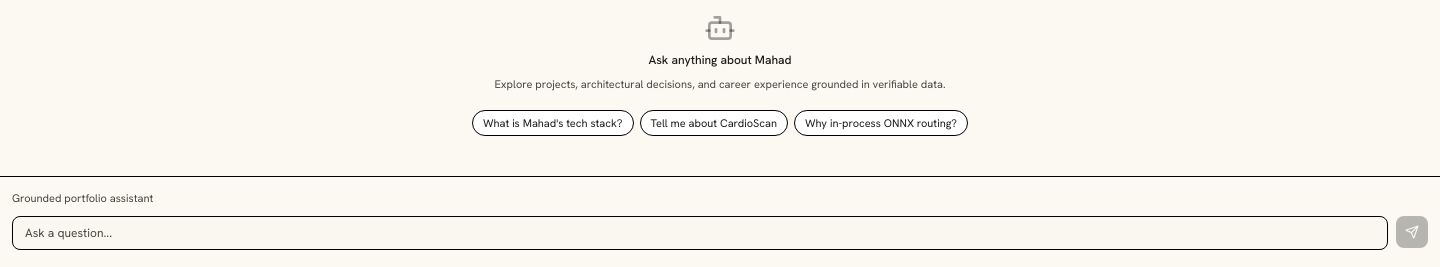
Test case: CompactChatTab (Milestone 13P.8) › populates input when suggestion button is clicked
Click the button "What is Mahad's tech stack?": (553, 123) left=472, top=110, right=634, bottom=136
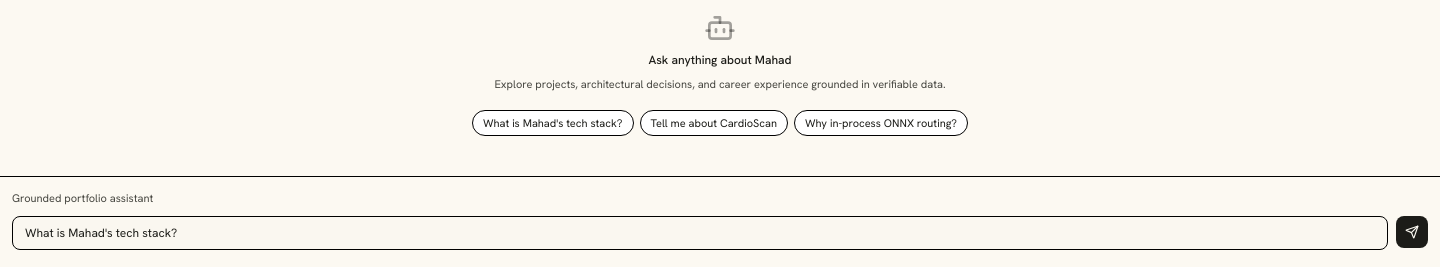
Result: the field with placeholder "Ask a question..." holds "What is Mahad's tech stack?" at left=12, top=216, right=1388, bottom=250
